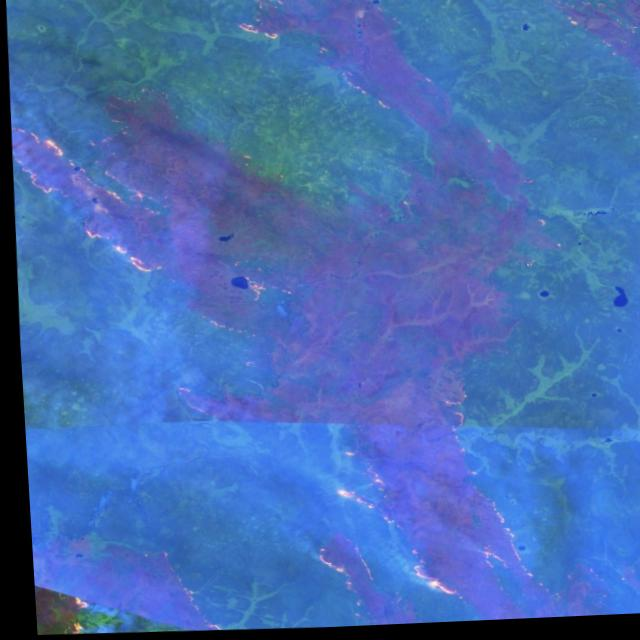fire: (295, 473, 549, 631), (5, 101, 180, 284), (223, 0, 291, 51)
